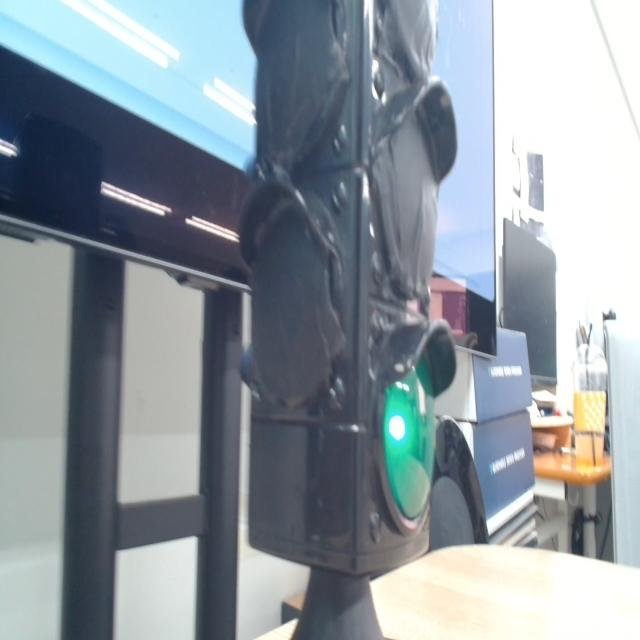green_light: (384, 370, 434, 519)
